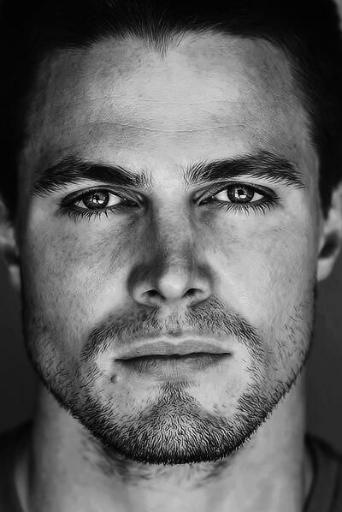left_eye: (195, 182, 281, 222)
left_lip_corner: (214, 342, 240, 369)
right_eye: (54, 188, 140, 229)
right_lip_corner: (110, 346, 143, 376)
